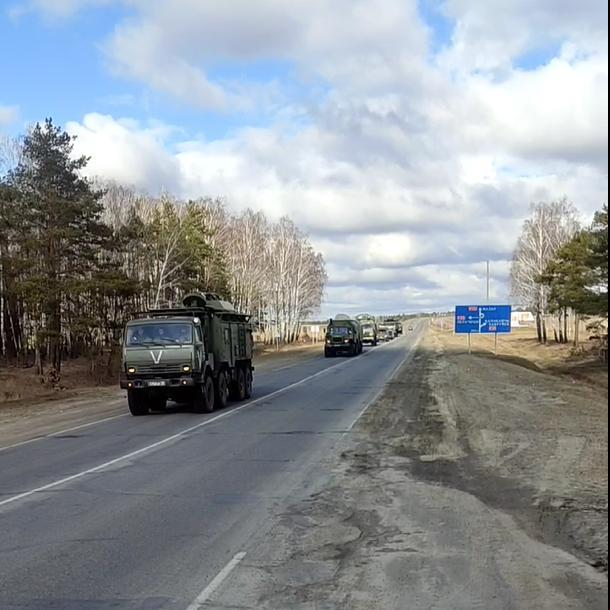truck: (117, 297, 252, 414), (322, 320, 363, 358), (357, 309, 379, 350)
